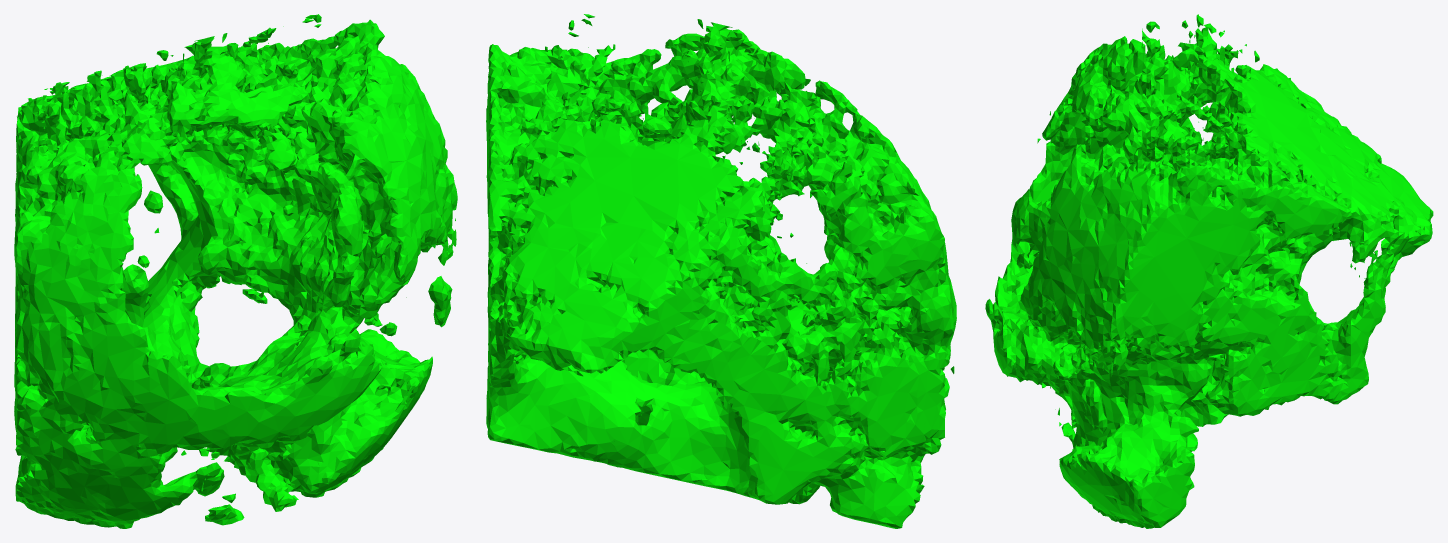
The model's file is B939XXXX-1_base_2.obj.
The picture shows the model from 3 angles, left to right: view 1: azimuth 30°, elevation 25°; view 2: azimuth 150°, elevation 25°; view 3: azimuth 270°, elevation 25°; orthographic projection. The views are drawn at different scales.
Parts seen in each view (by area): view 1: 2_base; view 2: 2_base; view 3: 2_base.
Boxes of the visible parts, x1,y1,x2,y2 form: 2_base: (14, 14, 457, 528); 2_base: (486, 14, 956, 528); 2_base: (985, 14, 1433, 528).
Bounding box in the file's own units: 219 × 219 × 206.
